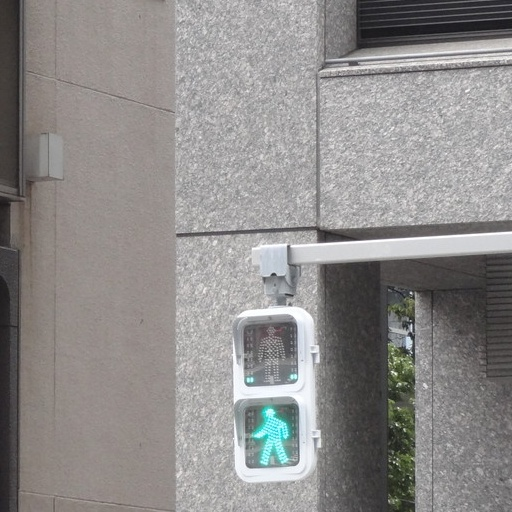Pedestrian_Signal_Blue: (222, 295, 317, 483)
